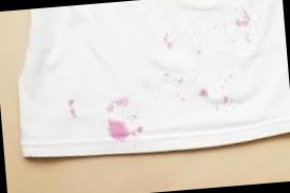wine: (102, 114, 134, 143), (232, 4, 260, 33), (66, 94, 86, 120), (183, 17, 202, 39), (160, 30, 177, 53), (105, 98, 129, 113), (217, 94, 232, 105), (192, 48, 207, 58), (214, 24, 227, 35), (175, 88, 186, 100), (198, 88, 210, 97), (164, 70, 173, 81), (224, 71, 236, 79), (215, 82, 224, 92), (176, 77, 184, 85), (137, 127, 145, 134)
